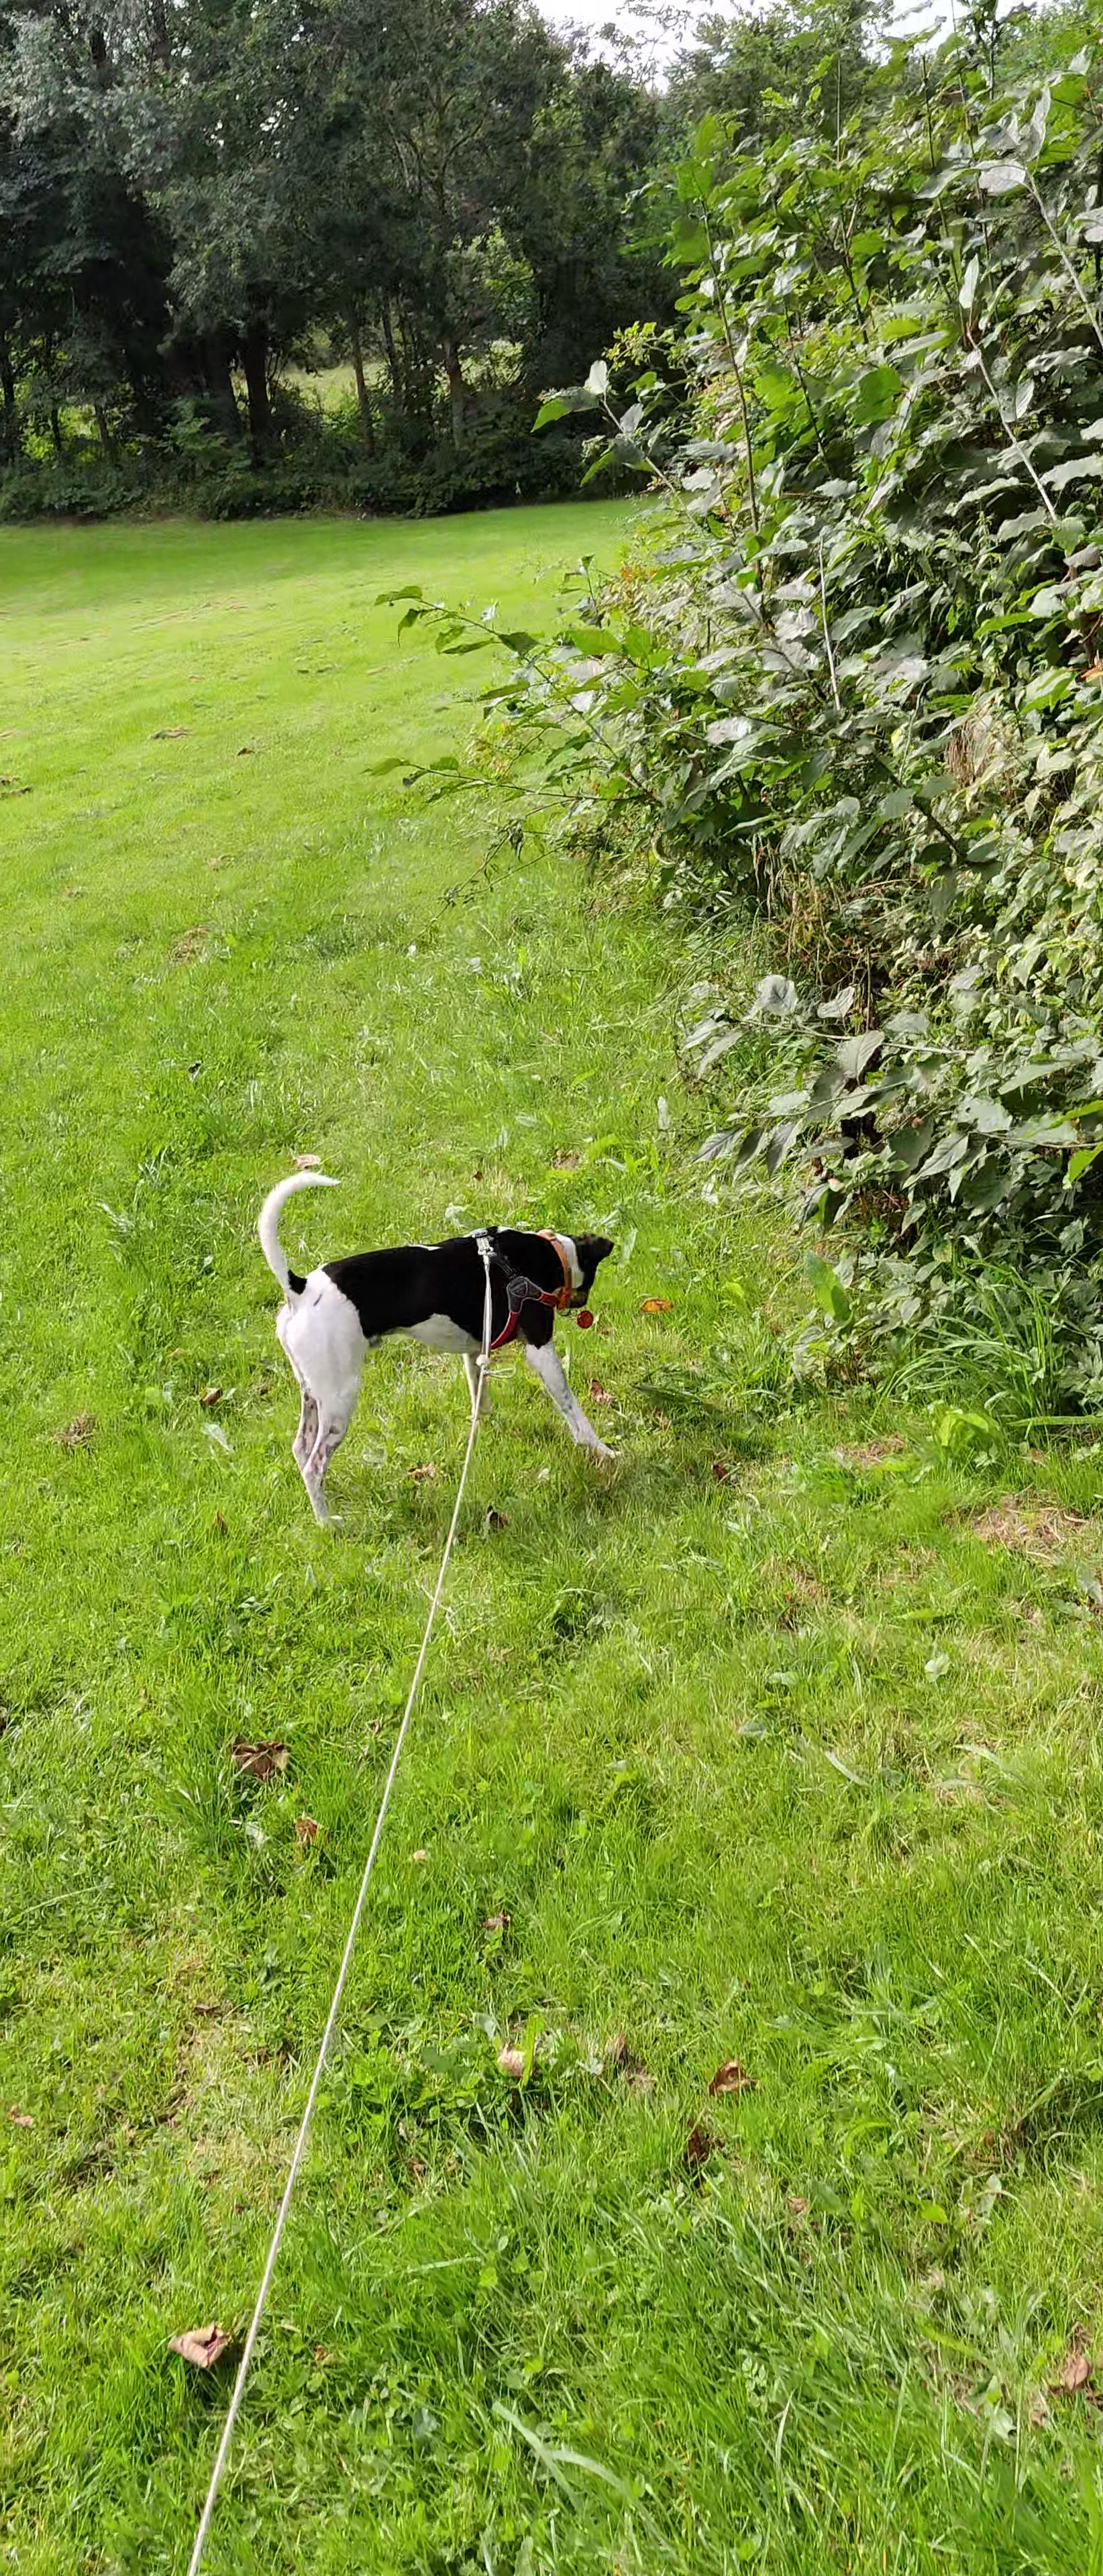Dog: (250, 1170, 631, 1531)
